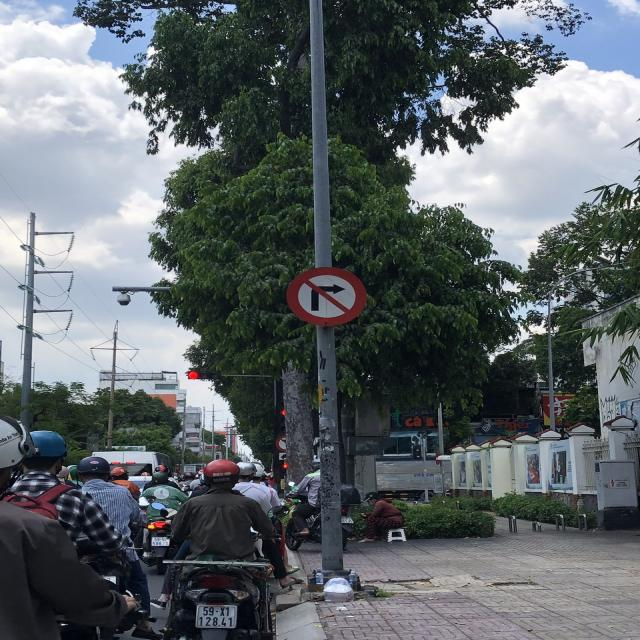Bien bao cam re phai: (277, 262, 370, 328)
